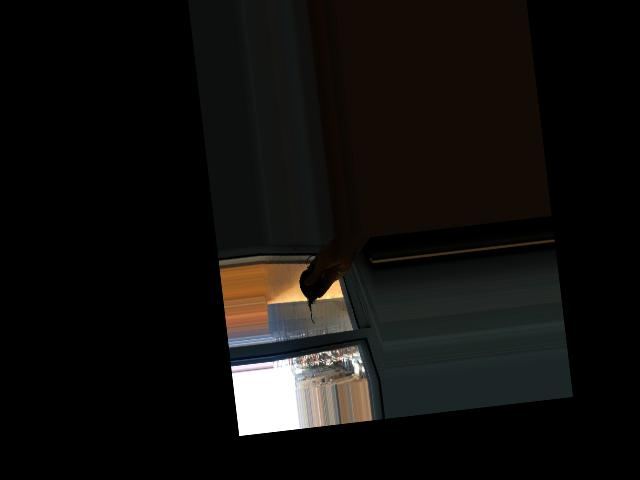beet: (296, 254, 333, 325)
